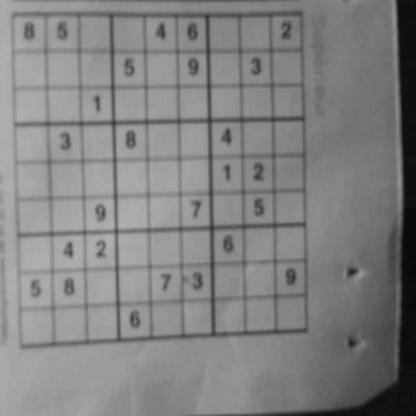sudoku: (8, 5, 312, 355)
